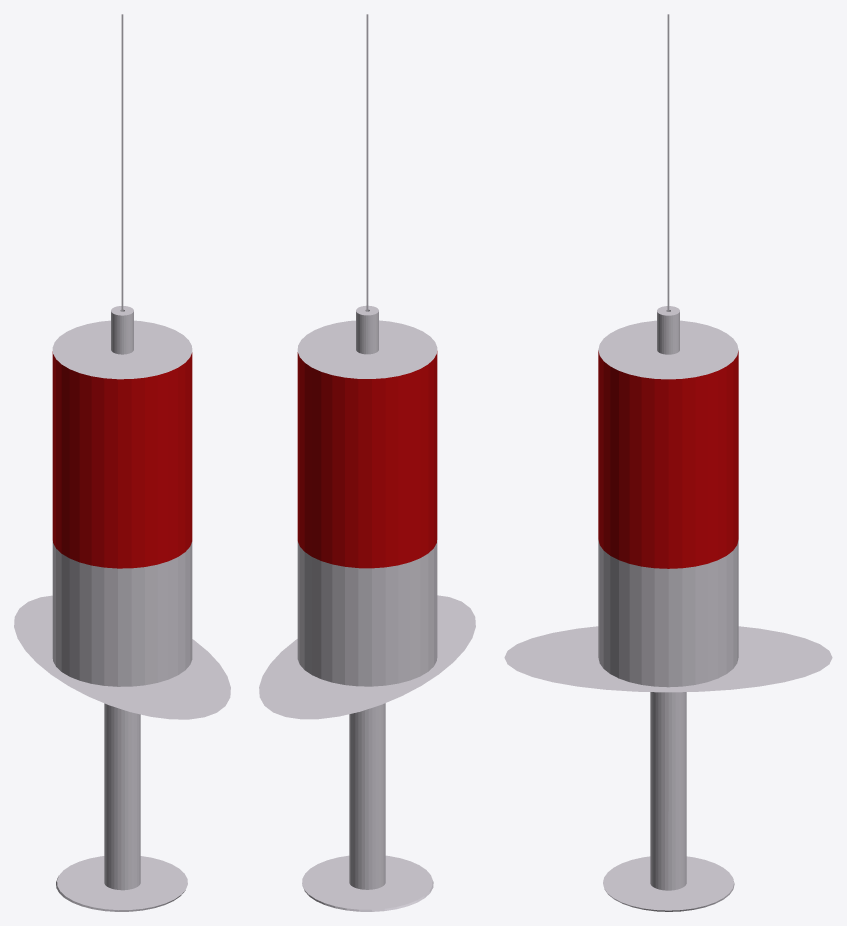
The model's file is Enjector (1).fbx.
3 views of the same model, side by side, from view 1: azimuth 30°, elevation 25°; view 2: azimuth 150°, elevation 25°; view 3: azimuth 270°, elevation 25° (orthographic).
Parts seen in each view (by area): view 1: Cylinder; view 2: Cylinder; view 3: Cylinder.
Boxes of the visible parts, bbox=[...] form: Cylinder: bbox=[14, 14, 230, 911]; Cylinder: bbox=[259, 14, 475, 911]; Cylinder: bbox=[504, 14, 832, 911].
Size of the model in its own units: 181 by 1056 by 361.
